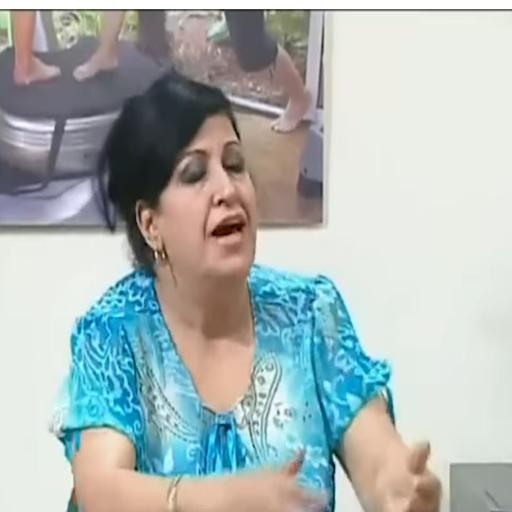jannet: (132, 86, 257, 301)
